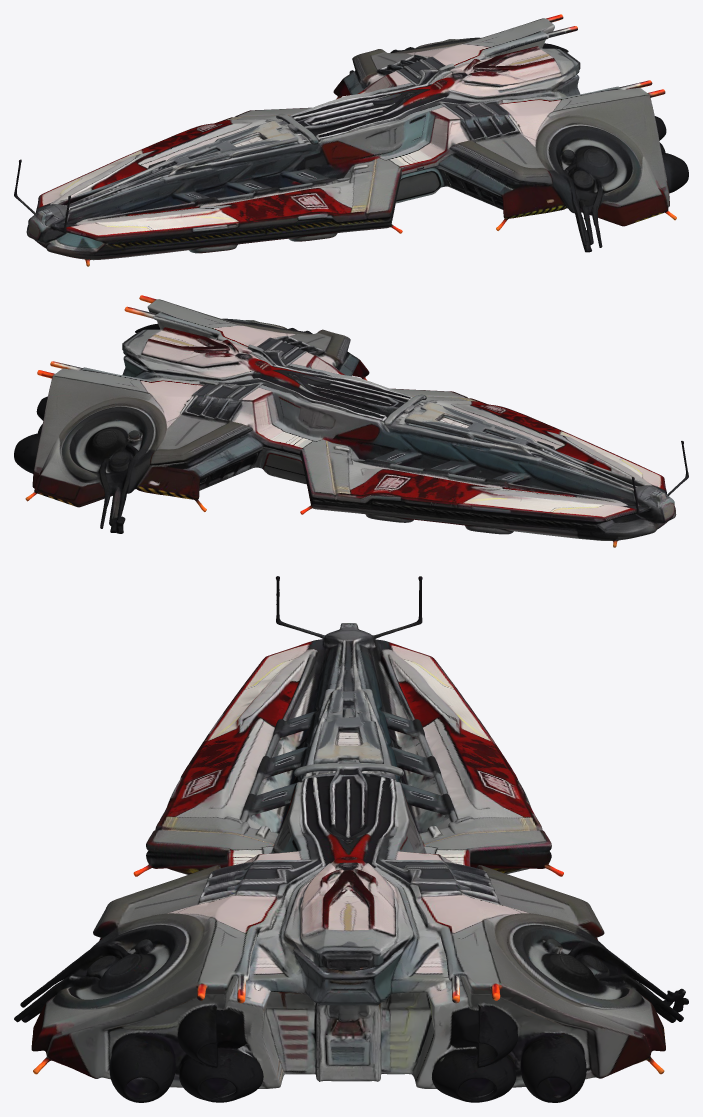
The model's file is spaceship-optimized.glb.
3 renders of one model, top to bottom at view 1: azimuth 30°, elevation 25°; view 2: azimuth 150°, elevation 25°; view 3: azimuth 270°, elevation 25°, orthographic. The views are drawn at different scales.
Parts seen in each view (by area): view 1: mesh_node; view 2: mesh_node; view 3: mesh_node.
Part boxes in pixels (x1=…): mesh_node: x1=14, y1=14, x2=688, y2=266; mesh_node: x1=14, y1=295, x2=688, y2=547; mesh_node: x1=14, y1=576, x2=688, y2=1102.
Bounding box in the file's own units: 1.9 × 0.3367 × 1.32.
1 material, 1 textured.
